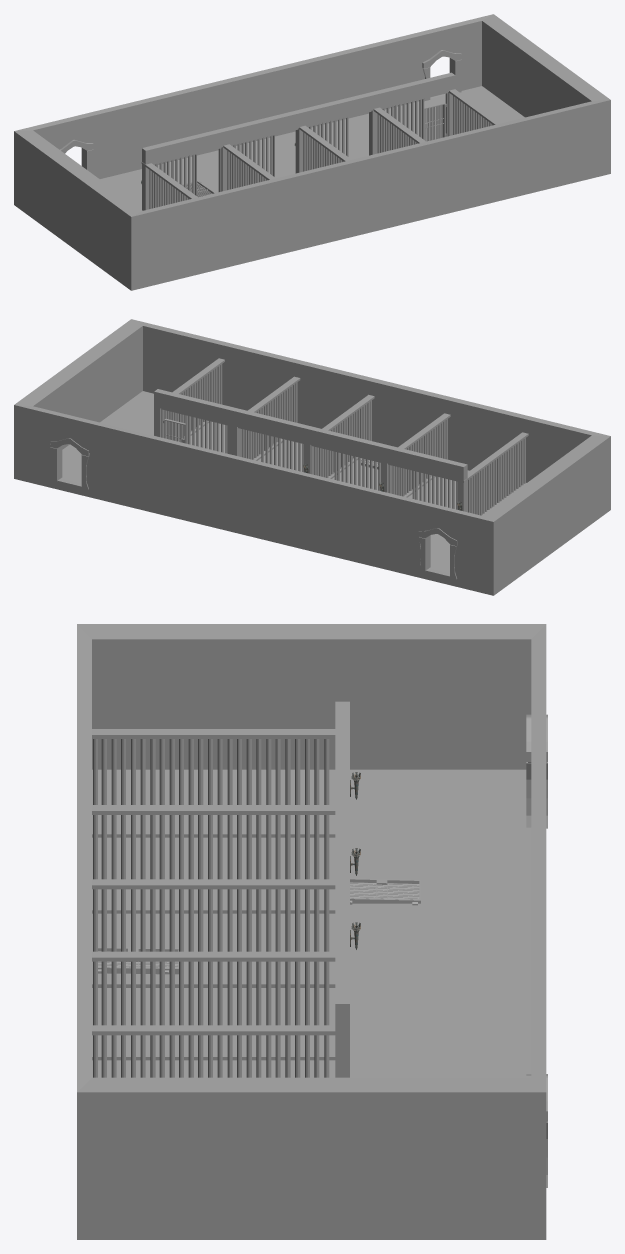
Rendered from NewSala02.fbx.
3 renders of one model, top to bottom at view 1: azimuth 30°, elevation 25°; view 2: azimuth 150°, elevation 25°; view 3: azimuth 270°, elevation 25°, orthographic. The views are drawn at different scales.
Parts seen in each view (by area): view 1: Nivel7:Nivel5:Sala08; view 2: Nivel7:Nivel5:Sala08; view 3: Nivel7:Nivel5:Sala08.
Part boxes in pixels (<box>): Nivel7:Nivel5:Sala08: <box>14,14,610,290</box>; Nivel7:Nivel5:Sala08: <box>14,319,610,595</box>; Nivel7:Nivel5:Sala08: <box>77,624,547,1239</box>.
Bounding box in the file's own units: 39.11 × 5.76 × 16.63.
